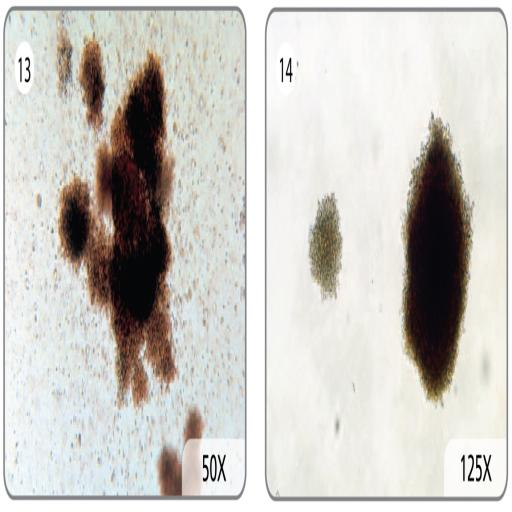CFU-GM: (58, 52, 176, 405), (402, 115, 472, 400), (308, 194, 342, 299), (80, 39, 104, 108)
